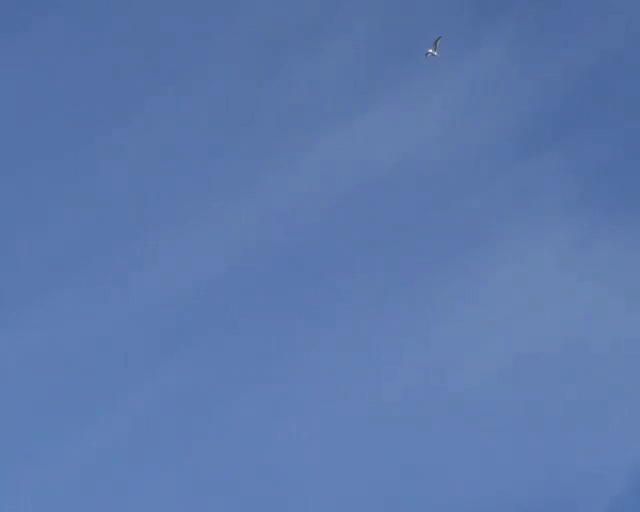BIRD: (426, 35, 442, 57)
